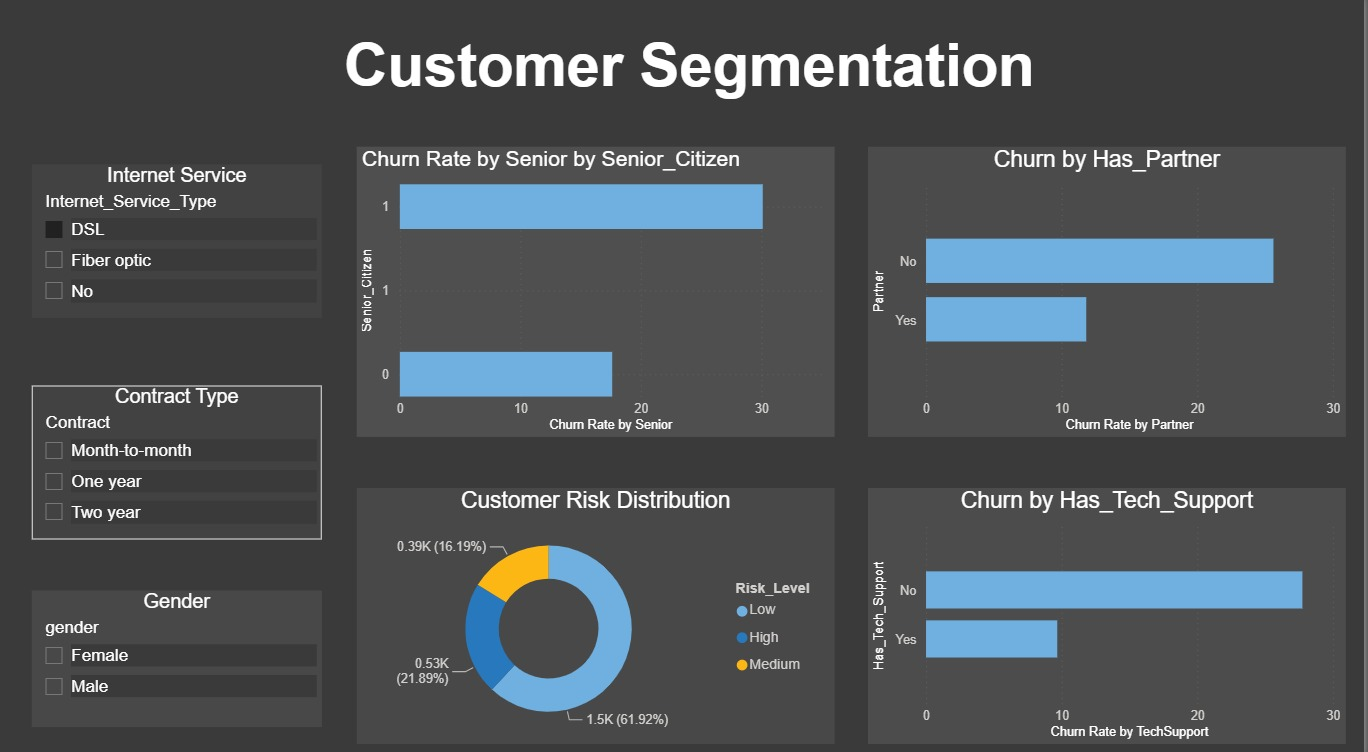

The dashboard page shown, as its layout file describes it:
{"tool":"powerbi","page":{"name":"Customer Segmentation","canvas":[1280,720],"ordinal":2},"visuals":[{"type":"donutChart","title":"Customer Risk Distribution","fields":{"Category":["telco_churn.Risk_Level"],"Y":["CountNonNull(telco_churn.Customer_ID)"]},"box":[336,464,448,240],"z":0},{"type":"clusteredBarChart","fields":{"Category":["telco_churn.Senior_Citizen"],"Y":["telco_churn.Churn Rate by Senior"]},"box":[336,144,448,272],"z":1000},{"type":"clusteredBarChart","title":"Churn by Has_Tech_Support","fields":{"Category":["telco_churn.Has_Tech_Support"],"Y":["telco_churn.Churn Rate by TechSupport"]},"box":[816,464,448,240],"z":2000},{"type":"clusteredBarChart","title":"Churn by Has_Partner","fields":{"Category":["telco_churn.Partner"],"Y":["telco_churn.Churn Rate by Partner"]},"box":[816,144,448,272],"z":3000},{"type":"slicer","title":"Contract Type","fields":{"Values":["telco_churn.Contract"]},"box":[32,368,272,144],"z":4000},{"type":"slicer","title":"Internet Service","fields":{"Values":["telco_churn.Internet_Service_Type"]},"box":[32,160,272,144],"z":5000},{"type":"slicer","title":"Gender","fields":{"Values":["telco_churn.gender"]},"box":[32,560,272,128],"z":6000},{"type":"textbox","box":[96,32,1104,80],"z":7000}]}

Visuals, with their boxes in screenshot pixels (x1, y1, x2, y2), scaled from the page's 1280x720 canvas onto the 1368x752 screenshot:
"Customer Risk Distribution" donutChart: box=[359, 485, 838, 735]
clusteredBarChart - telco_churn.Senior_Citizen x telco_churn.Churn Rate by Senior: box=[359, 150, 838, 434]
"Churn by Has_Tech_Support" clusteredBarChart: box=[872, 485, 1351, 735]
"Churn by Has_Partner" clusteredBarChart: box=[872, 150, 1351, 434]
"Contract Type" slicer: box=[34, 384, 325, 535]
"Internet Service" slicer: box=[34, 167, 325, 318]
"Gender" slicer: box=[34, 585, 325, 719]
textbox: box=[103, 33, 1282, 117]
